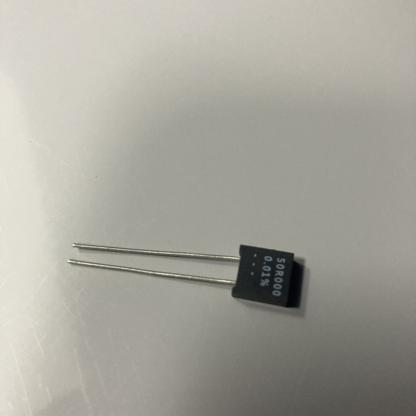SP0000008: (28, 192, 362, 350)
